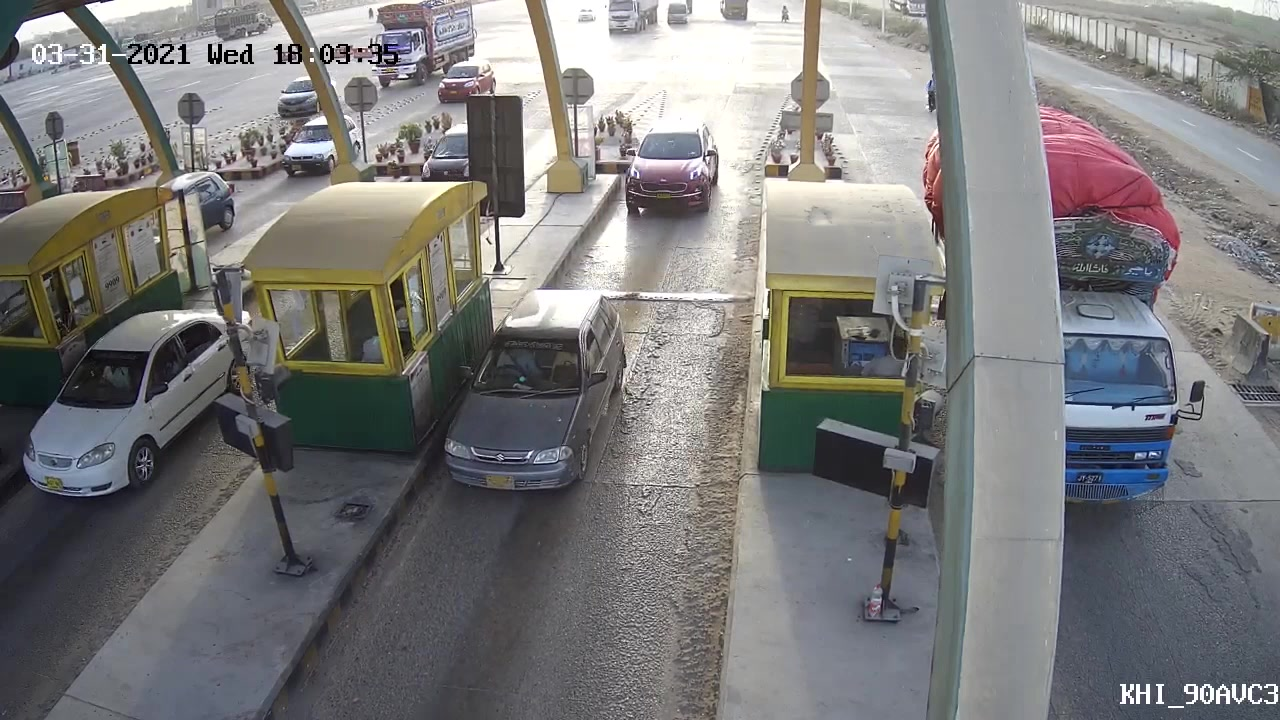F1: (429, 282, 631, 498), (614, 115, 723, 223)
